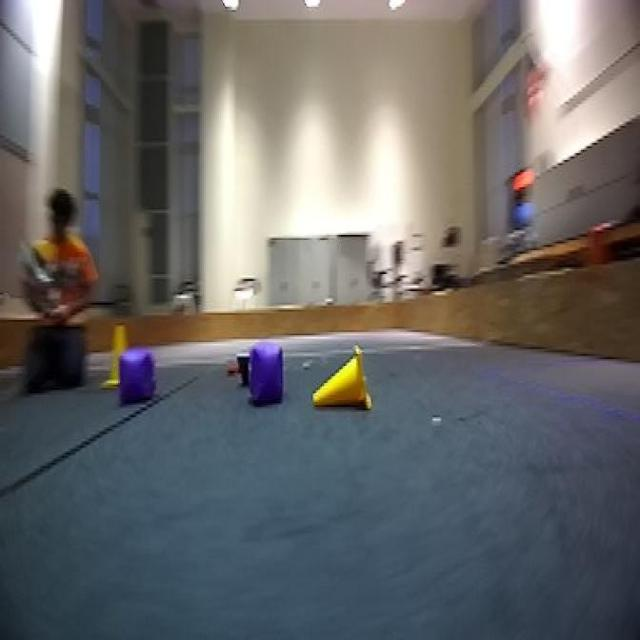frc_cone: (310, 341, 375, 422), (106, 327, 135, 388)
frc_cube: (252, 341, 286, 414), (123, 351, 160, 405)
